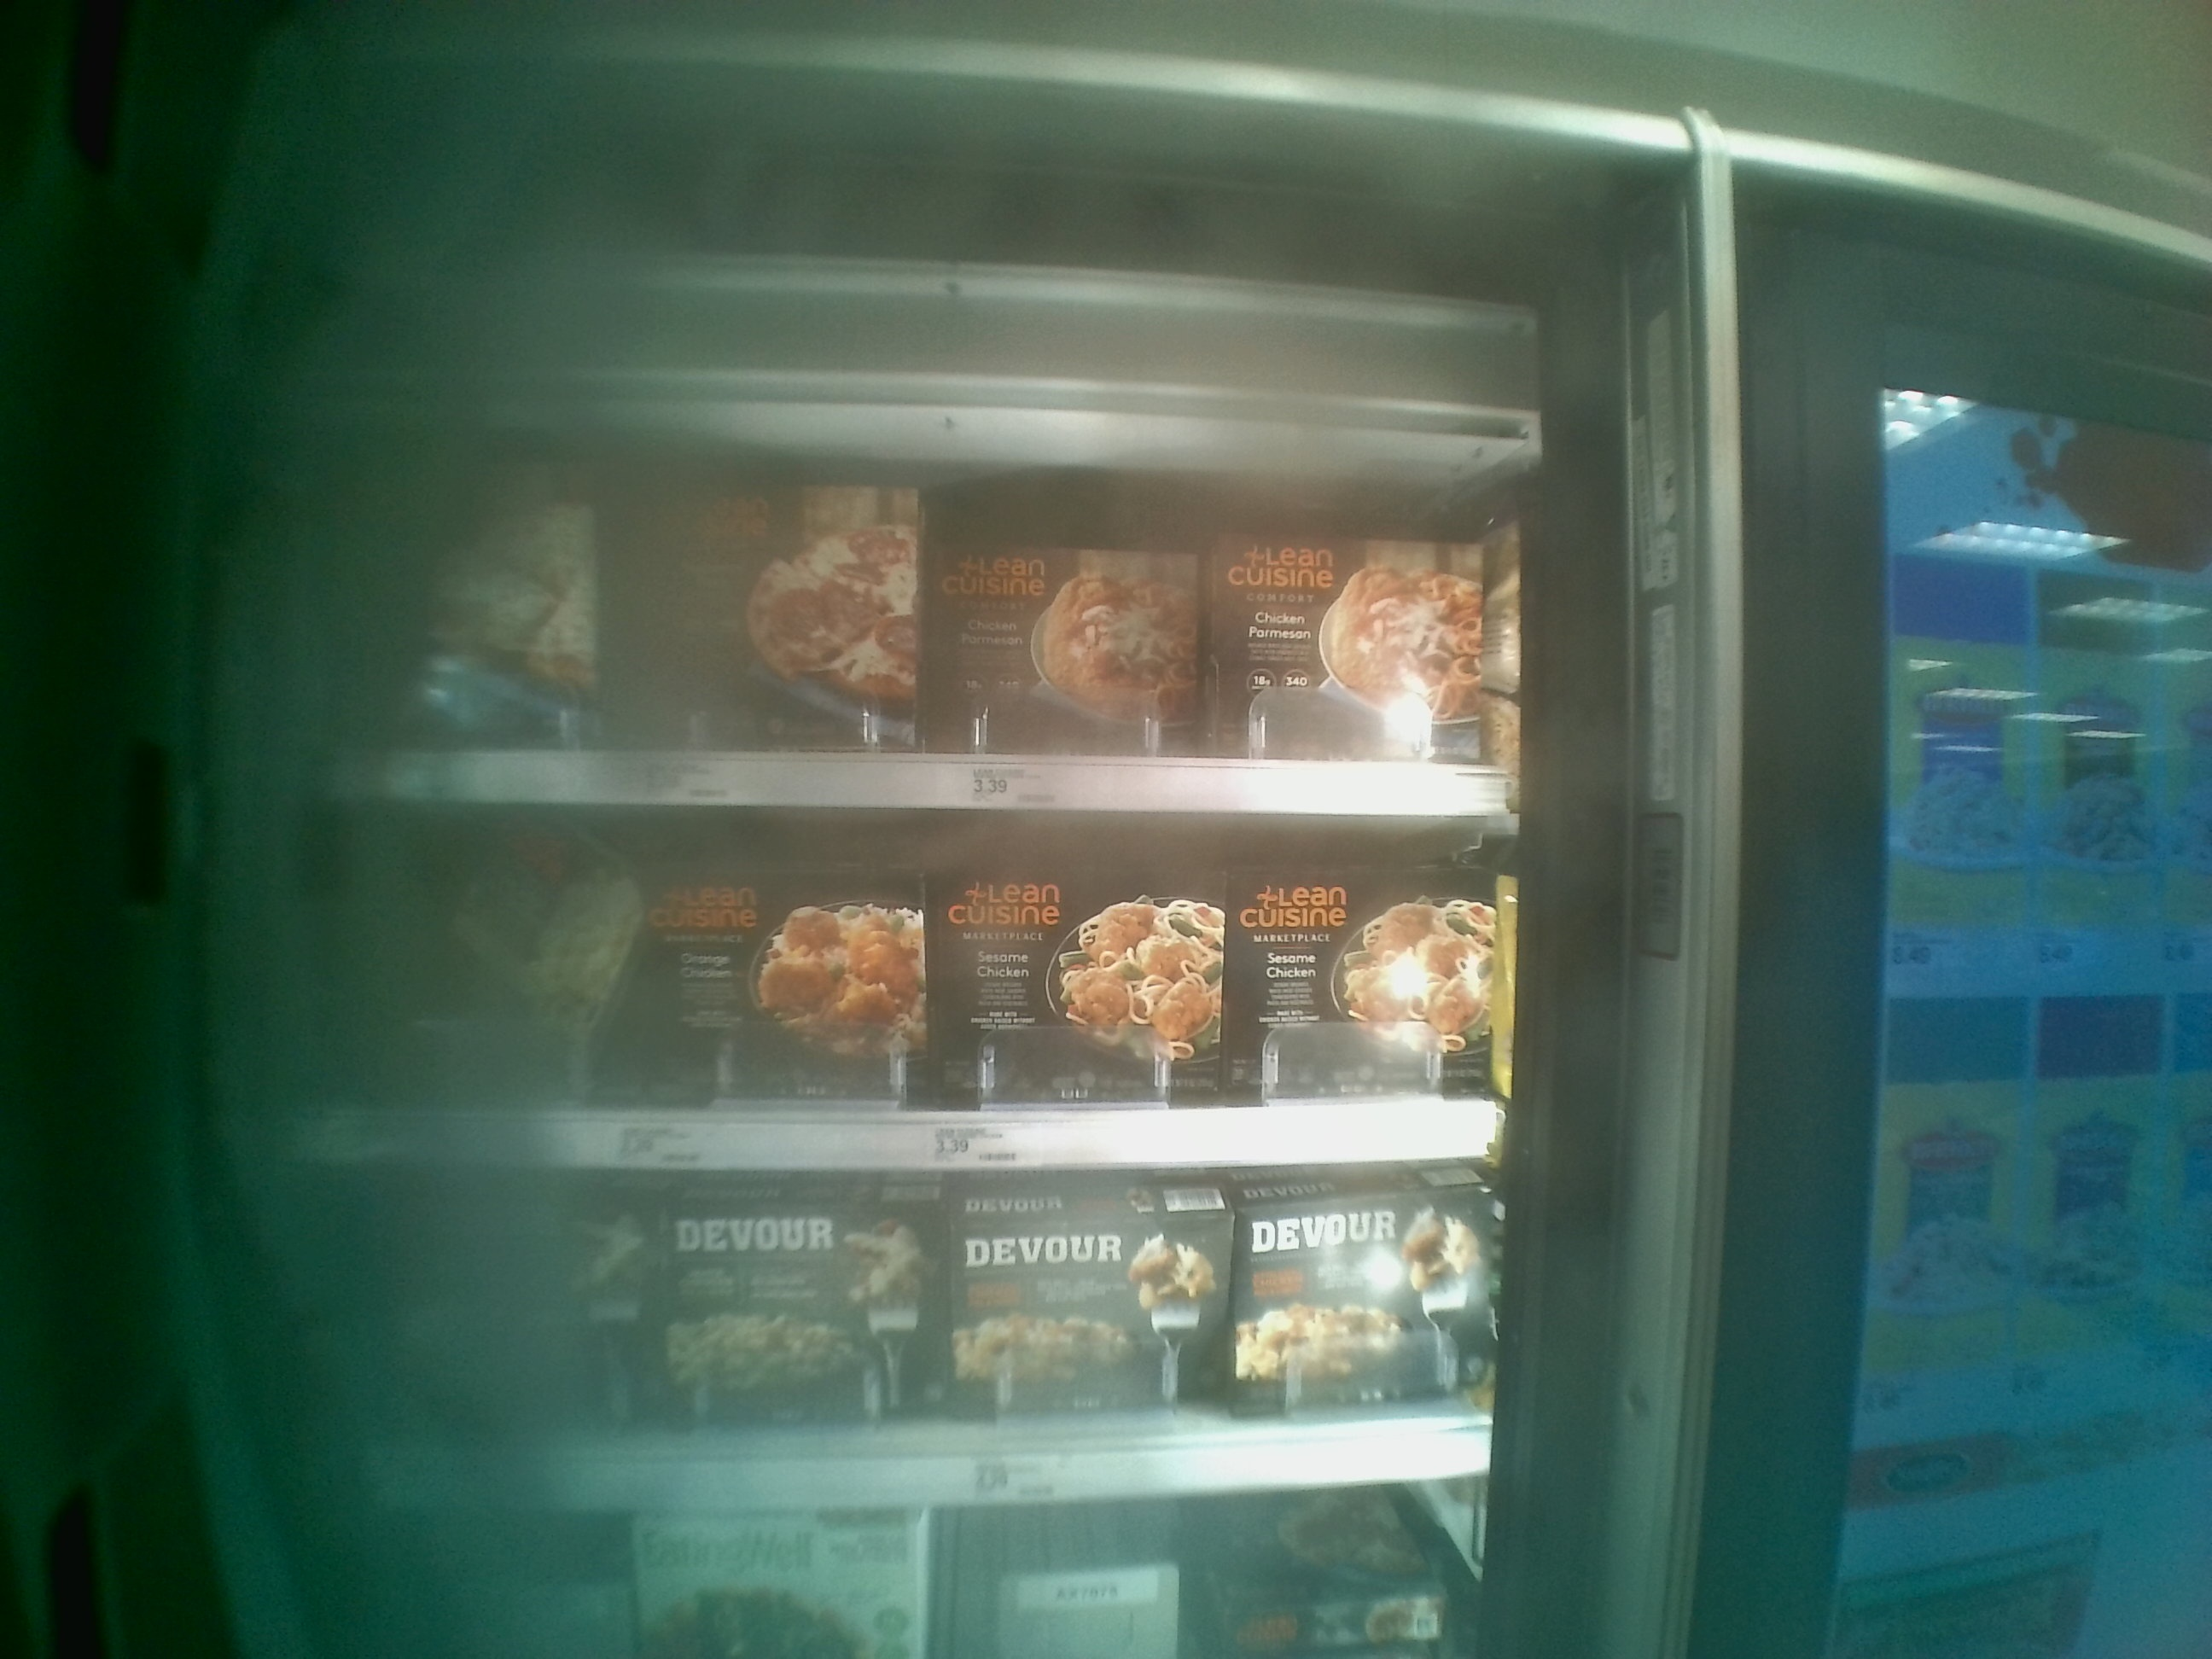shelf: (286, 368, 1505, 812), (291, 803, 1508, 1173)
